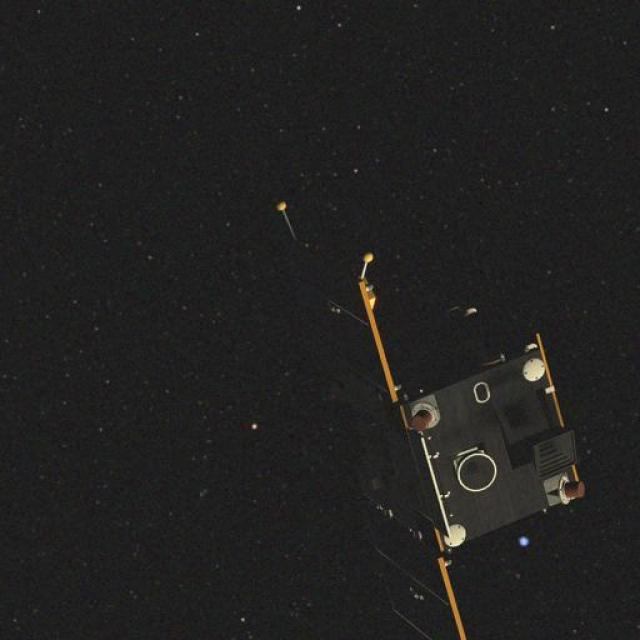proba_2: (255, 175, 594, 628)
